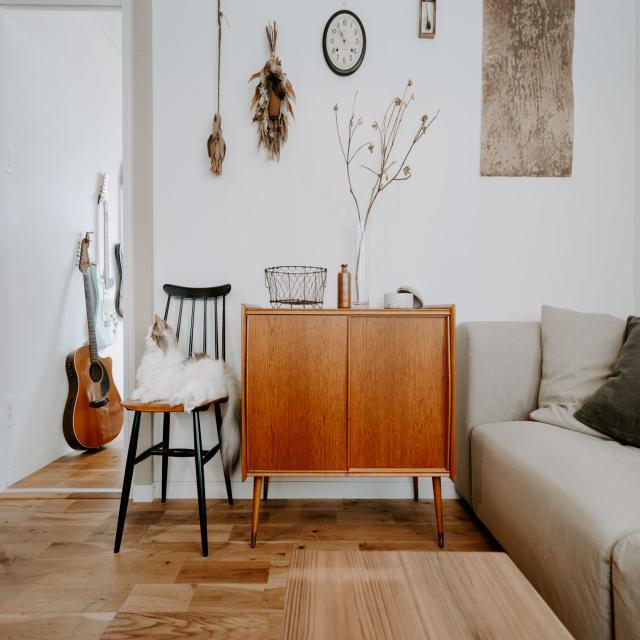vintage chair: (117, 282, 233, 560)
vintage shelf: (241, 302, 457, 544)
